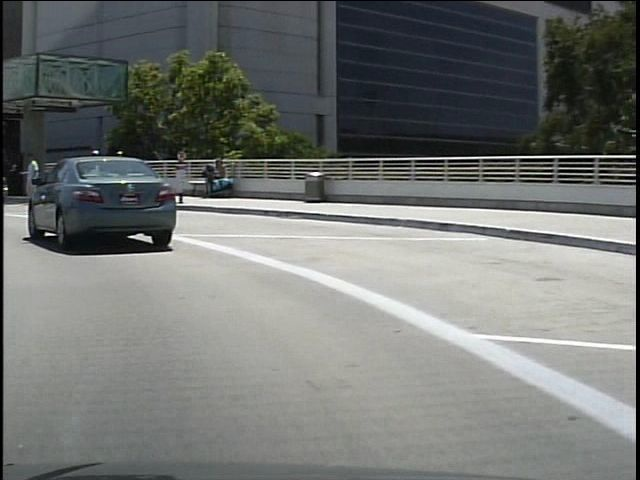person: (108, 147, 130, 202), (82, 146, 103, 200), (20, 151, 41, 204)
